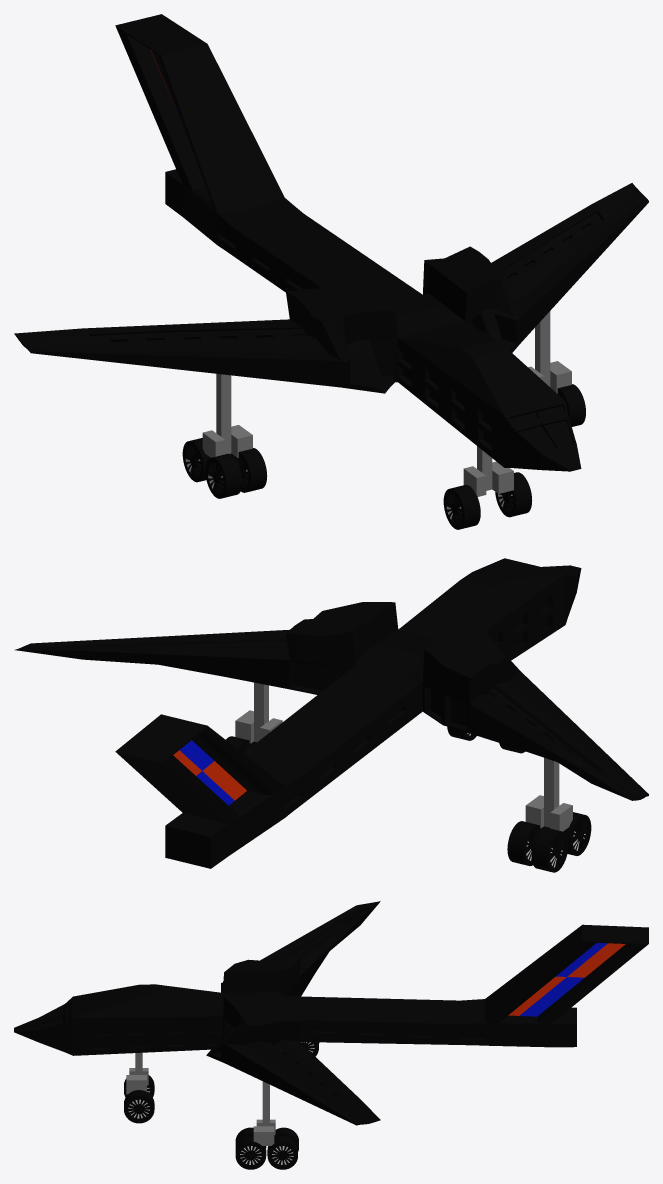
File: plane_1_landing.fbx
3 renders of one model, top to bottom at view 1: azimuth 30°, elevation 25°; view 2: azimuth 150°, elevation 25°; view 3: azimuth 270°, elevation 25°, orthographic. The views are drawn at different scales.
Visible parts, largest first — view 1: Cube, Cube.002, Cube.001, Cube.003, Circle.002, Circle.009, Circle.004, Circle.010, Circle.003, Circle.006; view 2: Cube, Cube.002, Cube.001, Circle.003, Circle.005, Circle.002; view 3: Cube, Circle.010, Cube.001, Circle.001, Circle.006, Cube.003.
Part boxes in pixels (x1=…): Cube: x1=14, y1=14, x2=648, y2=471; Cube.002: x1=202, y1=373, x2=252, y2=457; Cube.001: x1=528, y1=311, x2=571, y2=393; Cube.003: x1=463, y1=446, x2=513, y2=496; Circle.002: x1=205, y1=453, x2=242, y2=498; Circle.009: x1=443, y1=485, x2=480, y2=529; Circle.004: x1=232, y1=448, x2=267, y2=492; Circle.010: x1=495, y1=472, x2=532, y2=517; Circle.003: x1=182, y1=438, x2=210, y2=482; Circle.006: x1=557, y1=384, x2=585, y2=426; Cube: x1=15, y1=558, x2=648, y2=868; Cube.002: x1=525, y1=757, x2=572, y2=831; Cube.001: x1=235, y1=682, x2=282, y2=743; Circle.003: x1=531, y1=827, x2=568, y2=872; Circle.005: x1=507, y1=821, x2=542, y2=865; Circle.002: x1=563, y1=812, x2=591, y2=855; Cube: x1=14, y1=901, x2=648, y2=1125; Circle.010: x1=124, y1=1090, x2=154, y2=1123; Cube.001: x1=253, y1=1081, x2=275, y2=1145; Circle.001: x1=267, y1=1136, x2=297, y2=1169; Circle.006: x1=235, y1=1136, x2=266, y2=1169; Cube.003: x1=126, y1=1052, x2=148, y2=1094.
Bounding box in the file's own units: 540 × 206 × 662.
